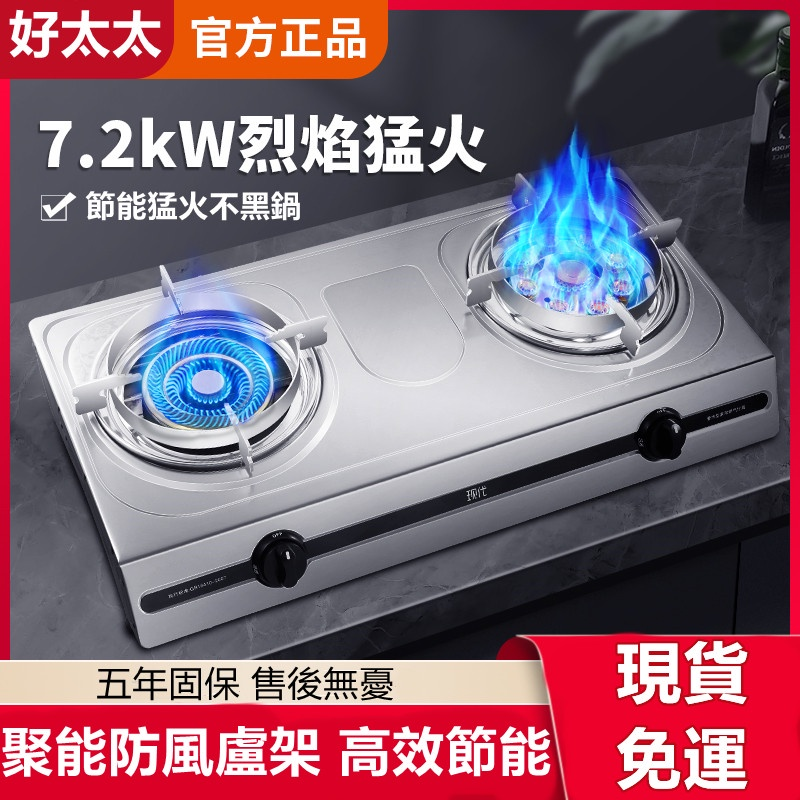gasoven: (26, 154, 791, 648)
